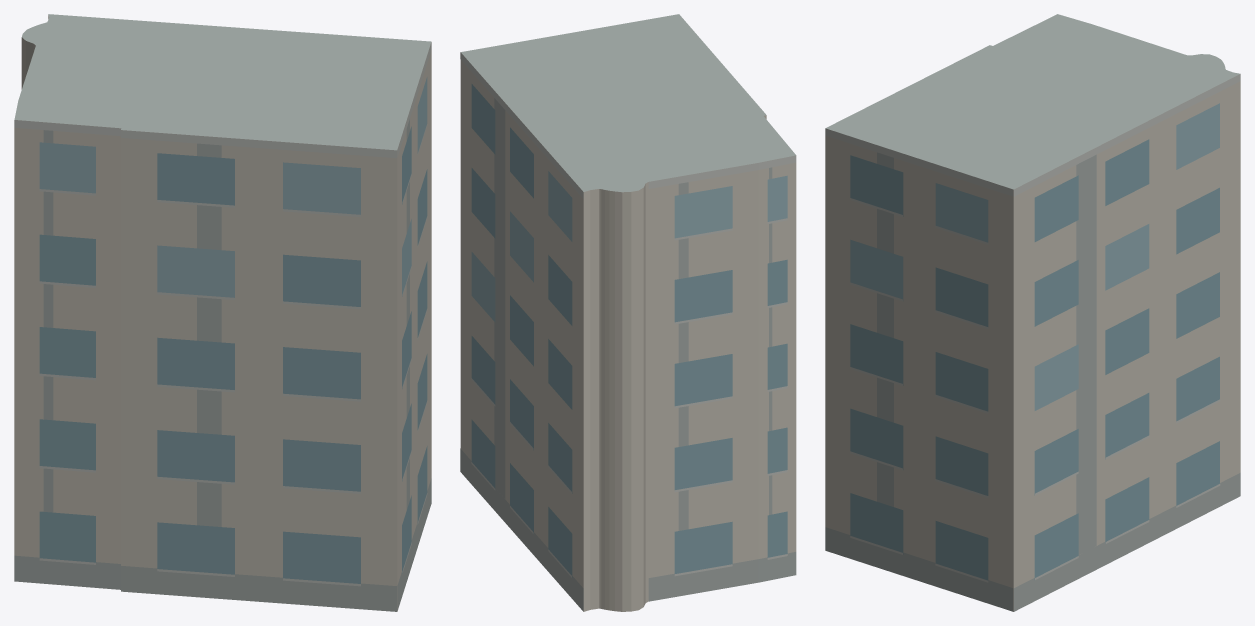
File: survey-upis-32884723.glb
3 renders of one model, left to right at view 1: azimuth 30°, elevation 25°; view 2: azimuth 150°, elevation 25°; view 3: azimuth 270°, elevation 25°, orthographic. The views are drawn at different scales.
Visible parts, largest first — view 1: survey-upis-32884723.tmp; view 2: survey-upis-32884723.tmp; view 3: survey-upis-32884723.tmp.
Part boxes in pixels (x1=…): survey-upis-32884723.tmp: x1=14, y1=14, x2=431, y2=611; survey-upis-32884723.tmp: x1=460, y1=14, x2=796, y2=611; survey-upis-32884723.tmp: x1=825, y1=14, x2=1240, y2=611.
Bounding box in the file's own units: 12.67 × 14.2 × 12.66.
